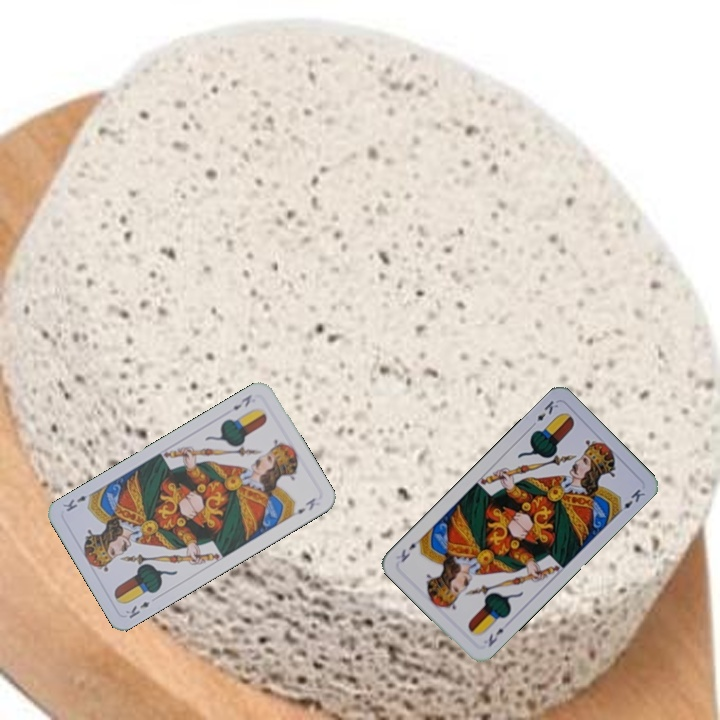EK: (526, 396, 561, 431), (121, 597, 153, 621), (229, 390, 254, 413), (484, 624, 506, 650)
